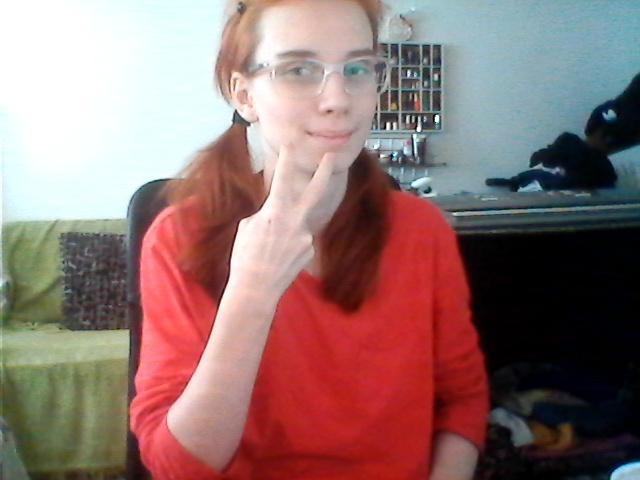usmievat: (217, 129, 380, 259)
